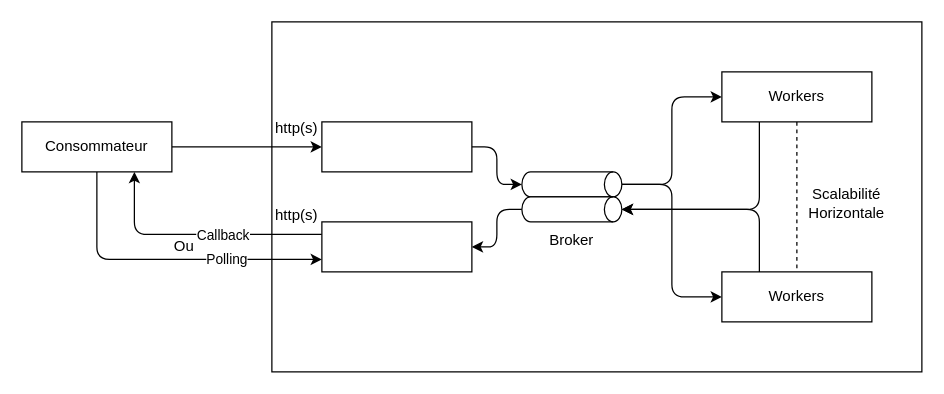
Some shapes in this 944 by 394 pixel diagram are drawn without their labels. Here are the shapes that lost their labels. From the top down, the centre of each, then its label:
At [396,146]: "Service front-end".
At [396,246]: "Service Notification".
